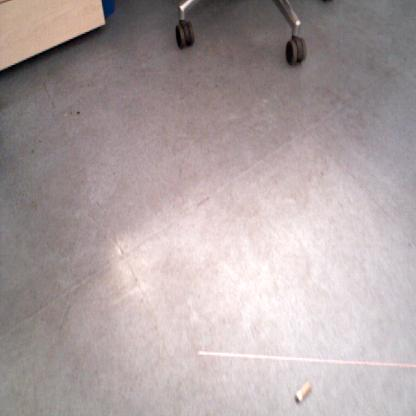dirty: (293, 378, 311, 404)
mark: (57, 302, 70, 333), (195, 194, 210, 207), (176, 163, 183, 178), (406, 240, 414, 251), (318, 169, 324, 178), (68, 109, 74, 116), (37, 138, 42, 145), (30, 148, 35, 154), (76, 109, 80, 115)
